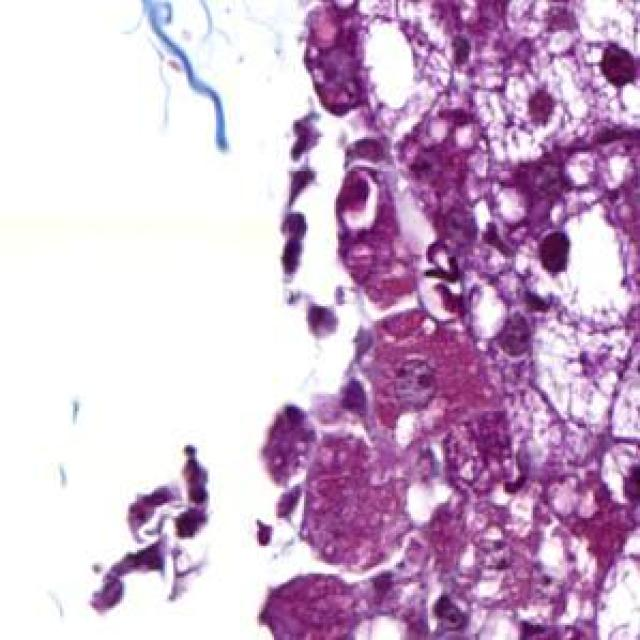ballooning: (473, 32, 636, 169), (509, 199, 634, 334)
